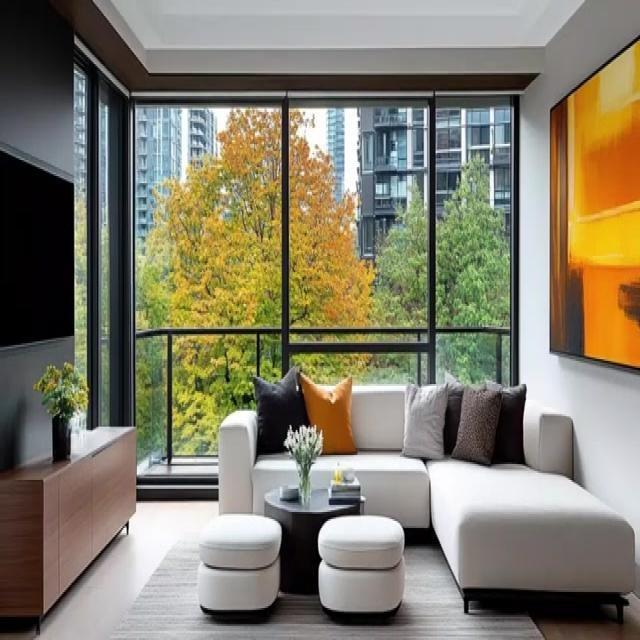obstacle: (217, 378, 636, 622), (0, 425, 137, 635), (263, 484, 365, 594)
